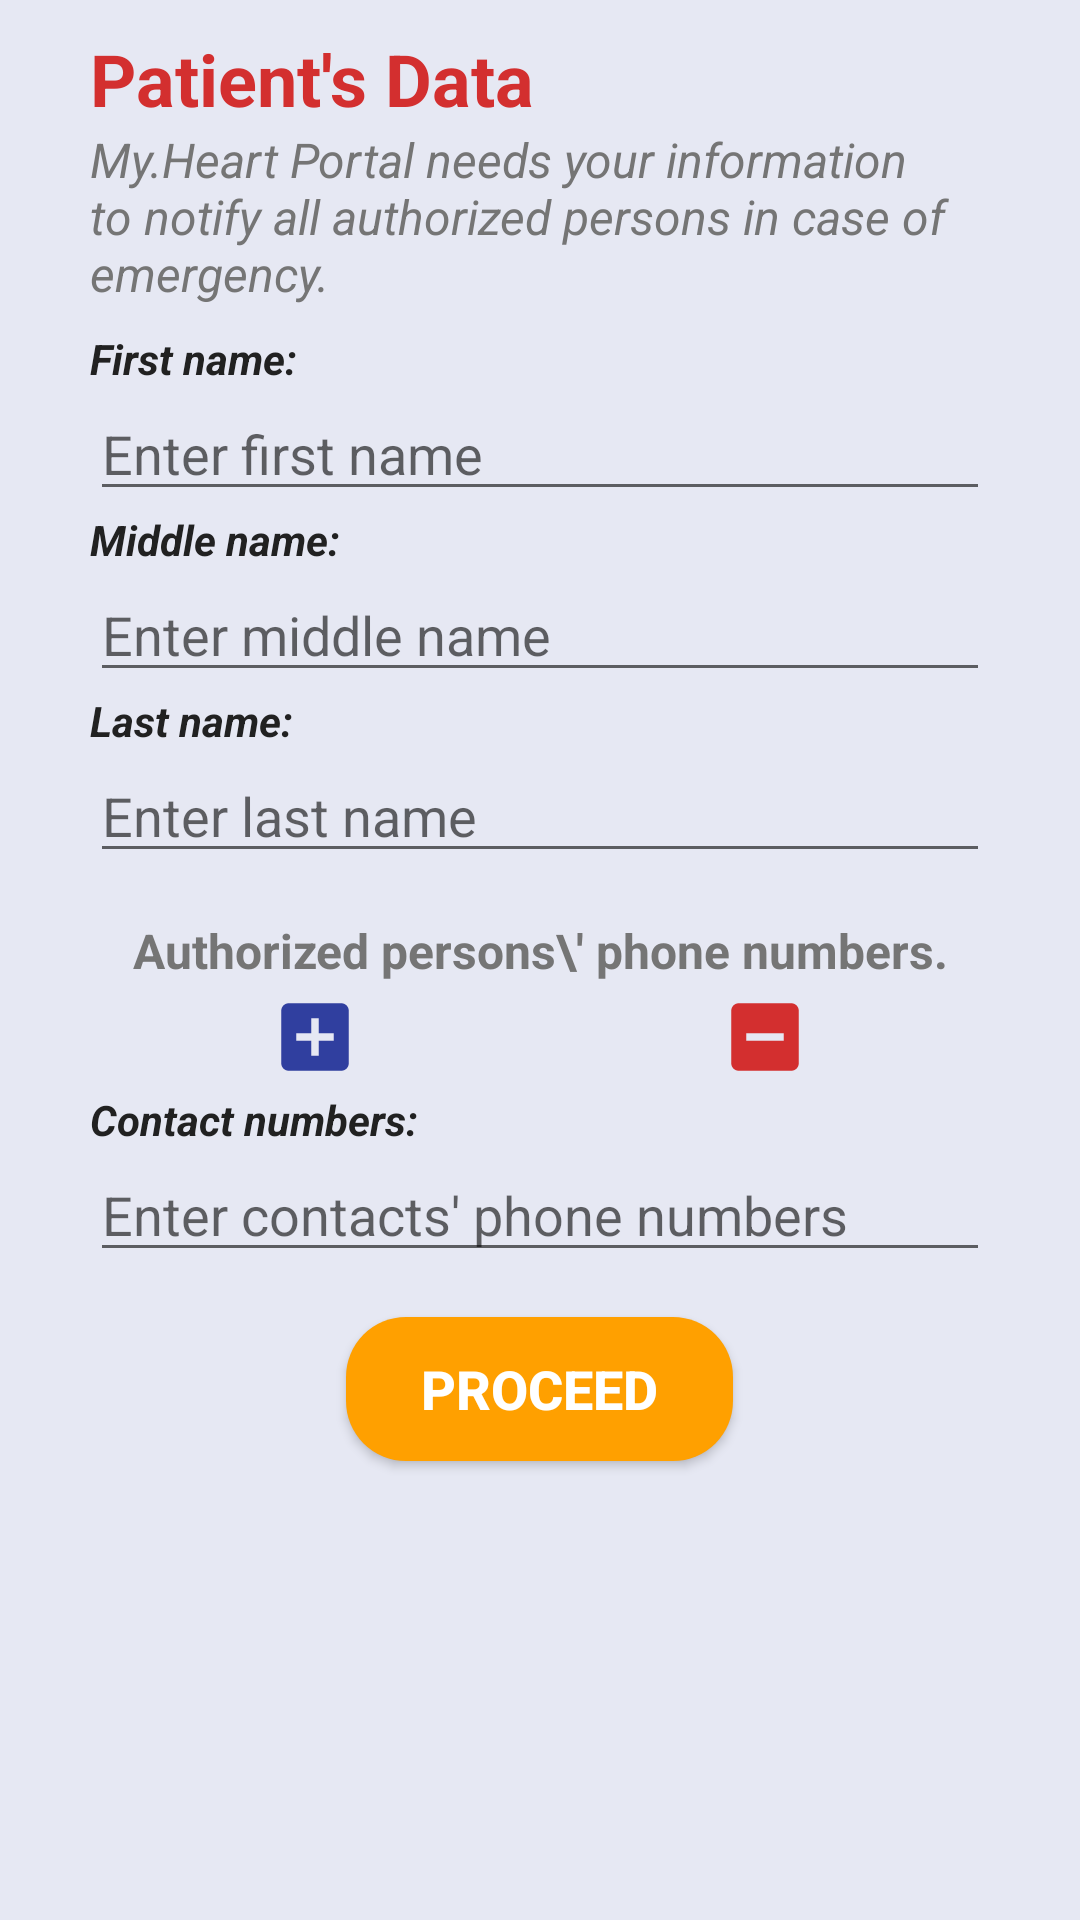

Screen size 1080*1920. Icon name, then its box in pixels as (x1, y1, x2, y2):
Add more phone numbers: (281, 1003, 349, 1071)
Remove recent: (731, 1003, 799, 1071)
